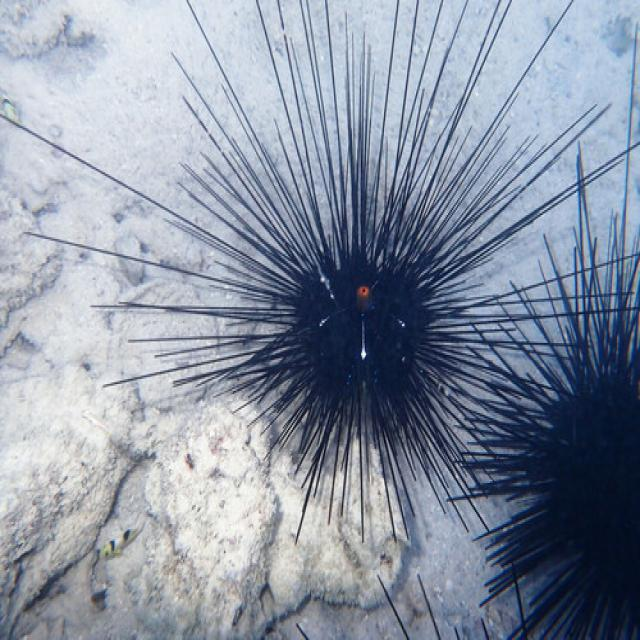Urchin: (1, 2, 640, 536), (449, 242, 640, 640)
